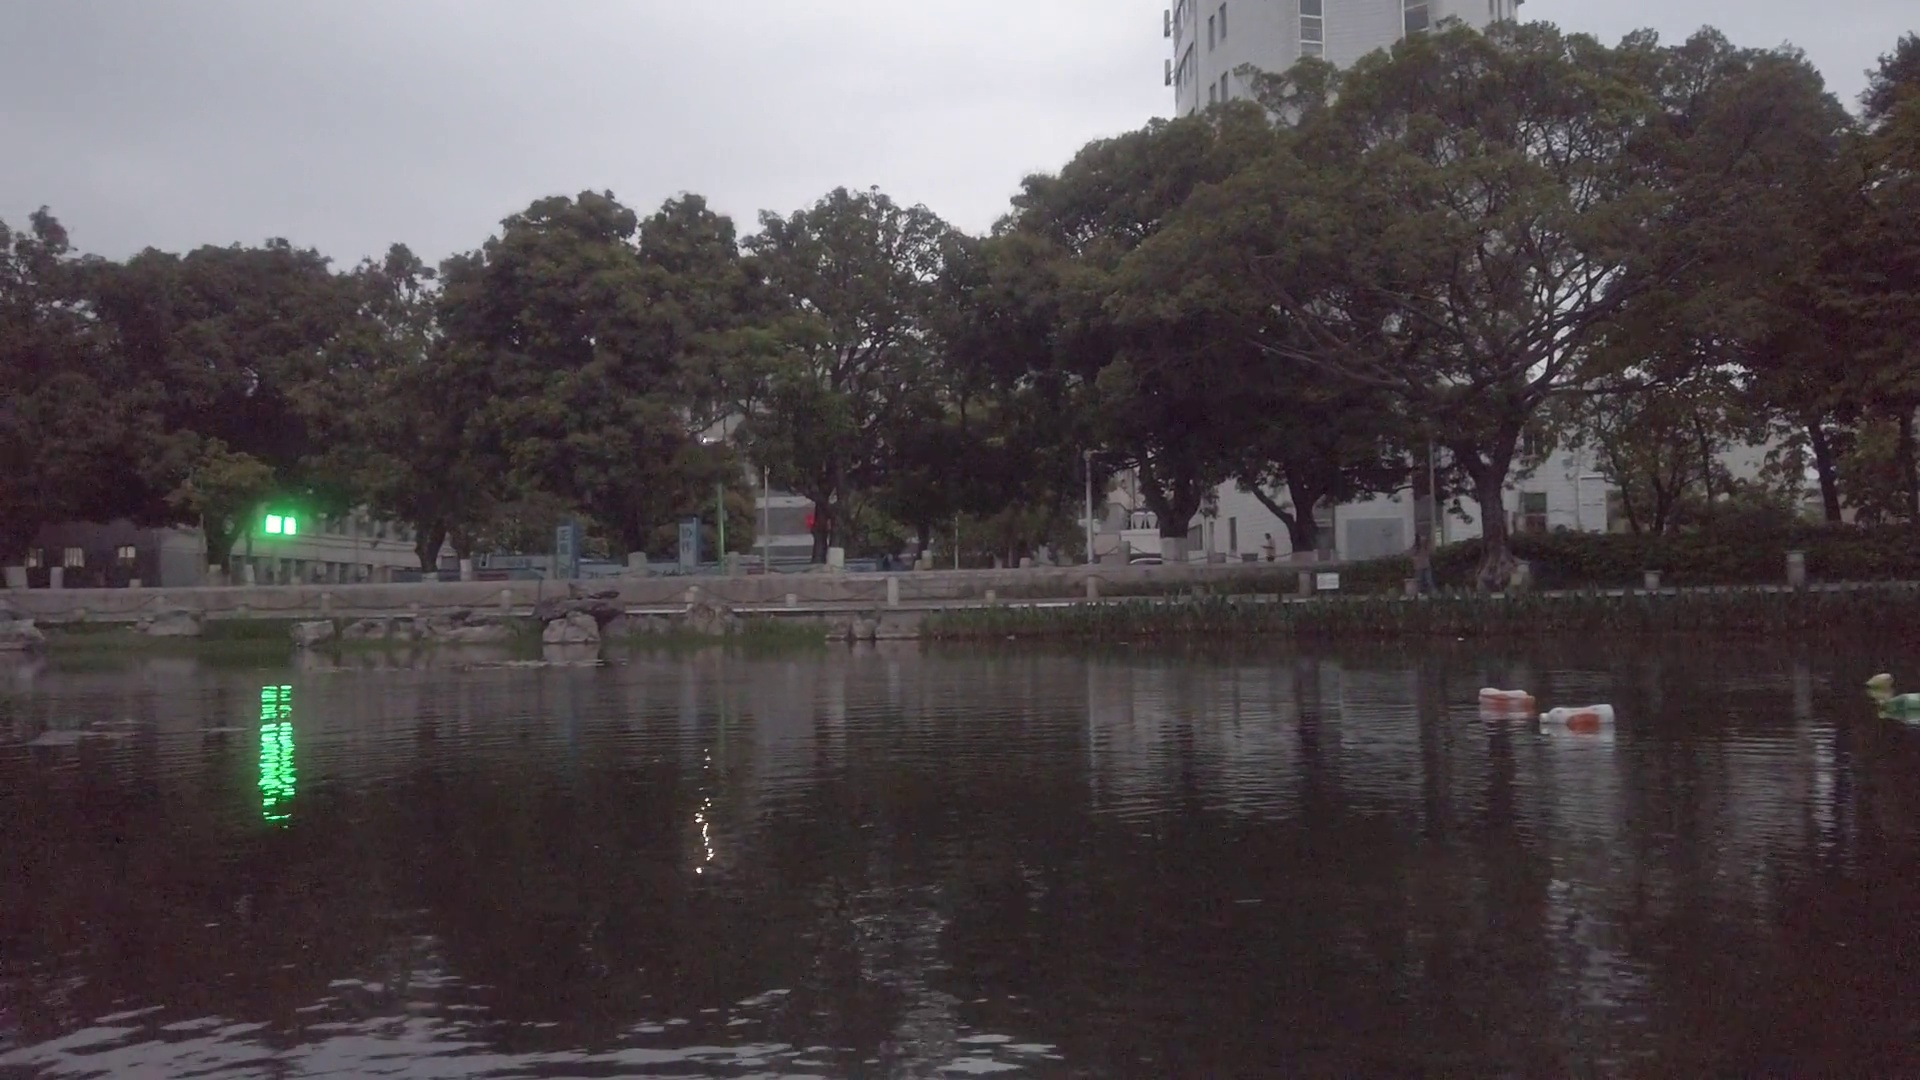bottle: (1542, 702, 1615, 727), (1480, 686, 1535, 705), (1880, 691, 1917, 712), (1865, 670, 1894, 690)
